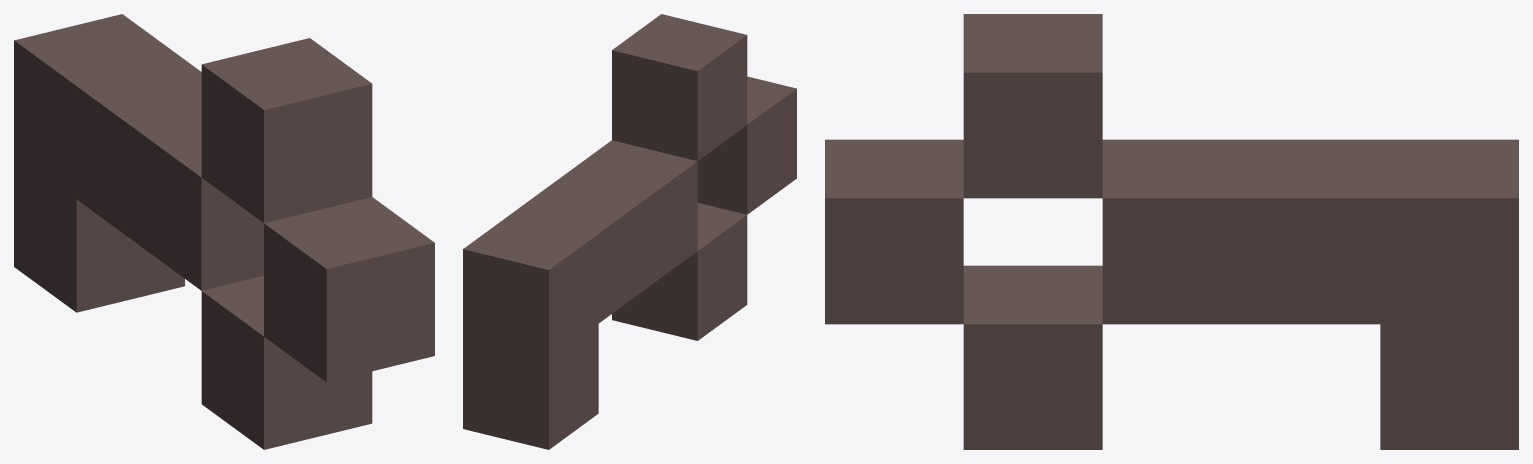
Rendered from orc_prison_key.obj.
The picture shows the model from 3 angles, left to right: view 1: azimuth 30°, elevation 25°; view 2: azimuth 150°, elevation 25°; view 3: azimuth 270°, elevation 25°; orthographic projection. The views are drawn at different scales.
Size of the model in its own units: 0.1 by 0.3 by 0.5.
1 material, 1 textured.
